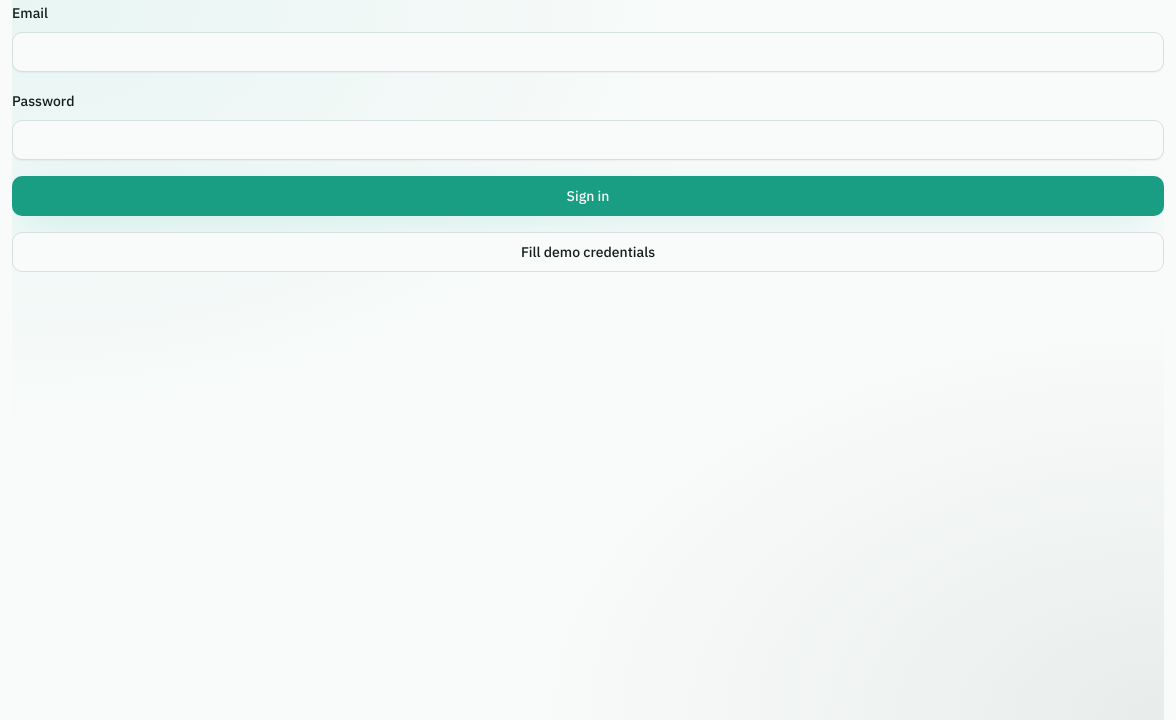
Test: LoginForm › fills demo credentials
Click the button "Fill demo credentials". click: (588, 252)
box: [12, 232, 1164, 272]
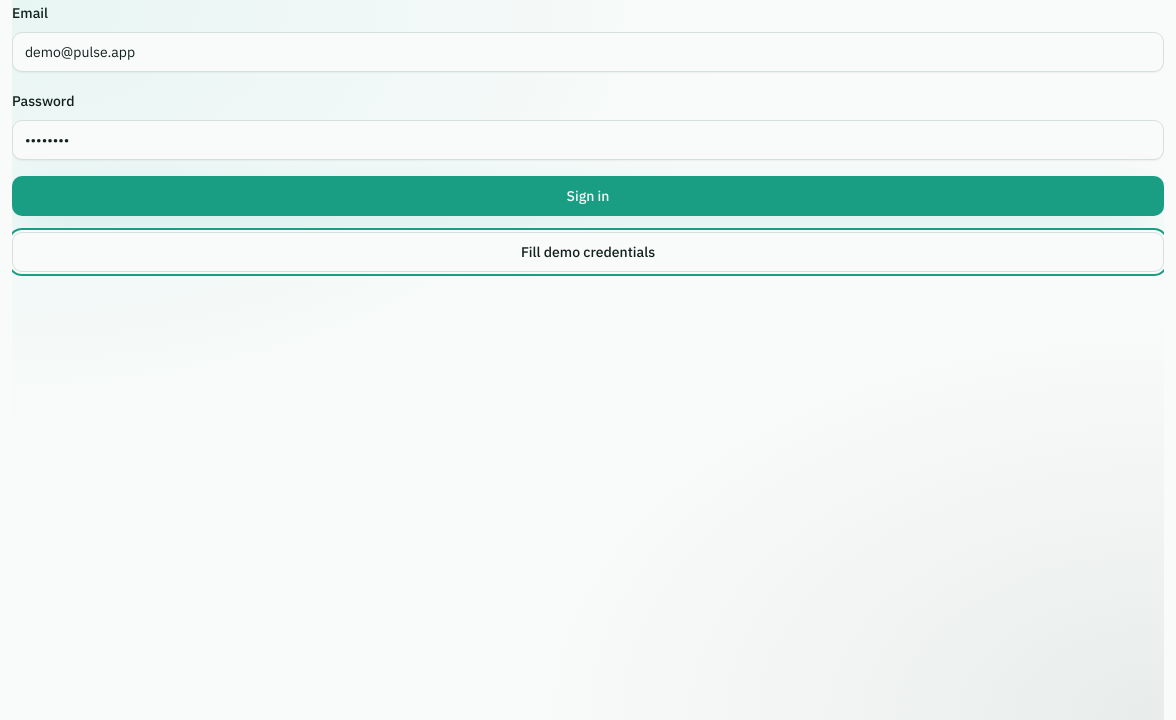
expect the field labelled "Email" holds "demo@pulse.app": met, box [12, 32, 1164, 72]
